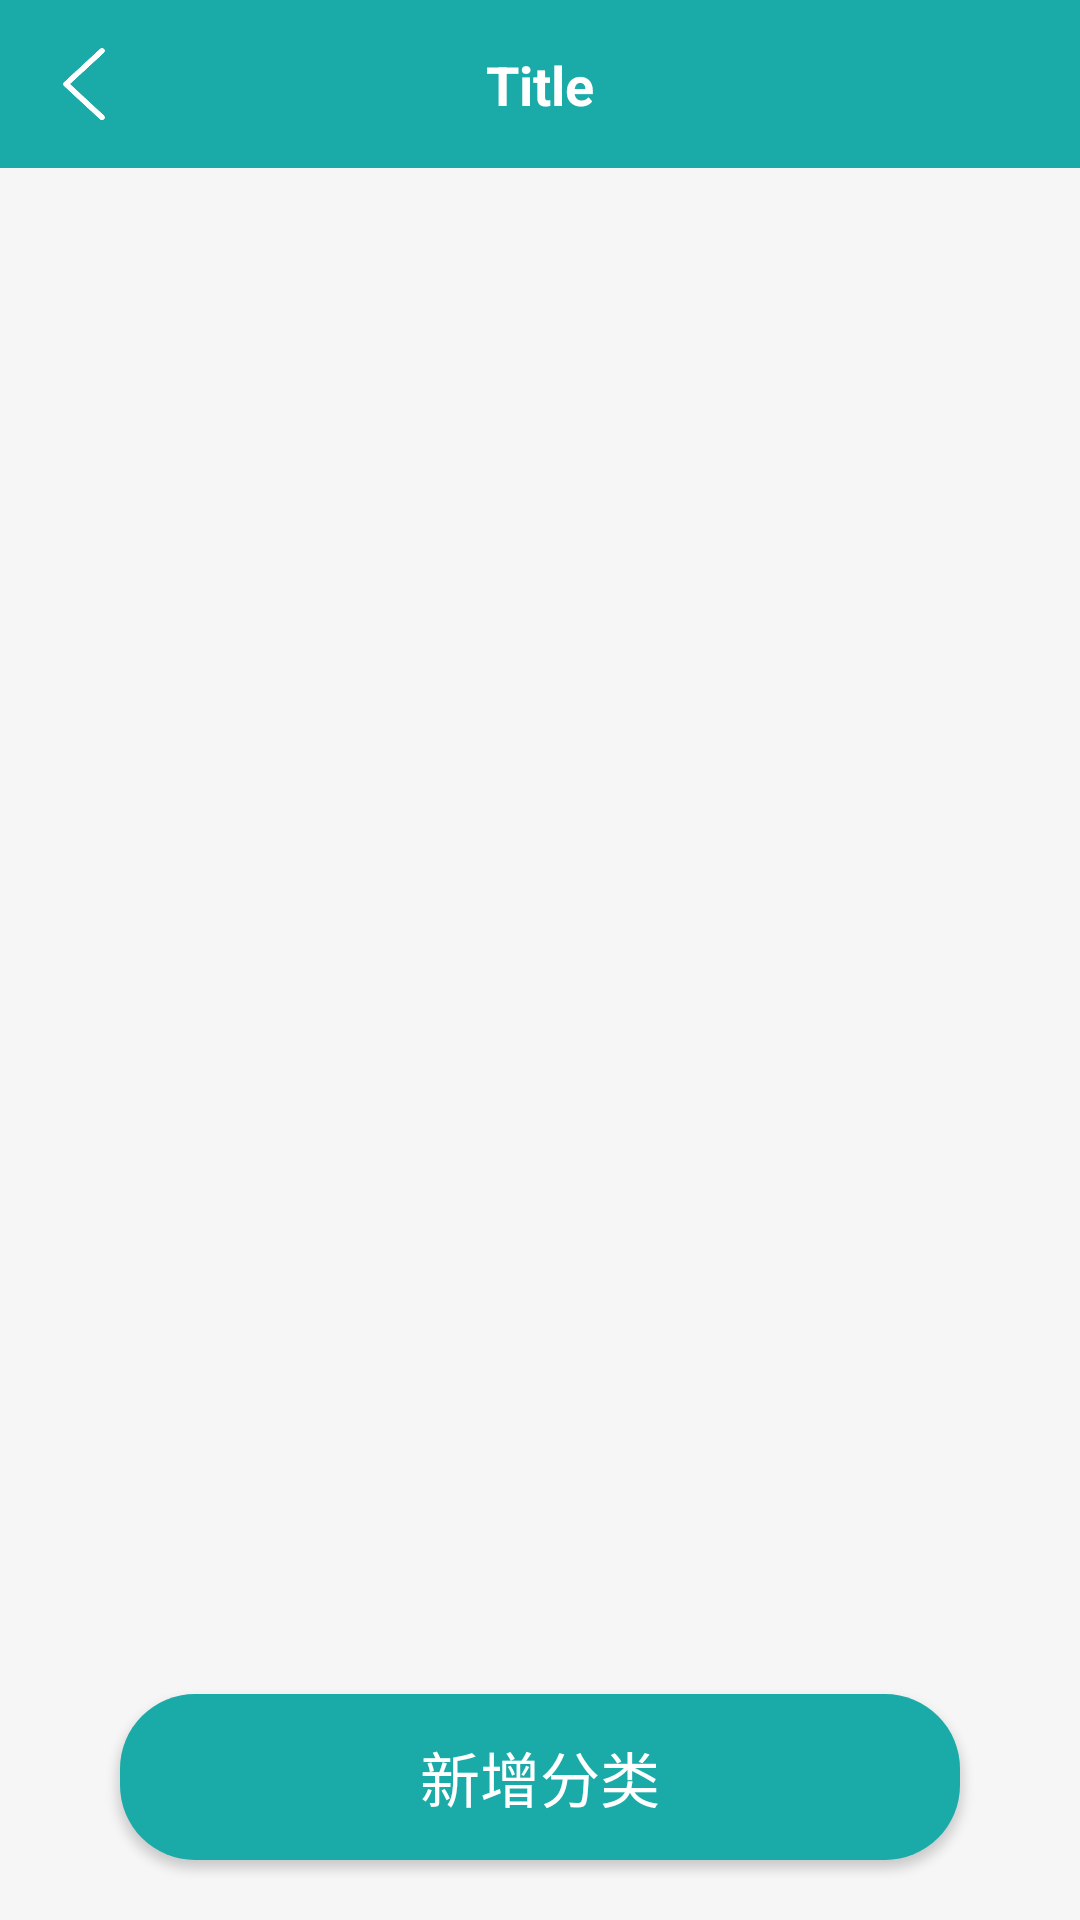

Where icons sit on this 1080x1920 app screen, as (x1, y1, x2, y2):
back: (63, 48, 105, 120)
